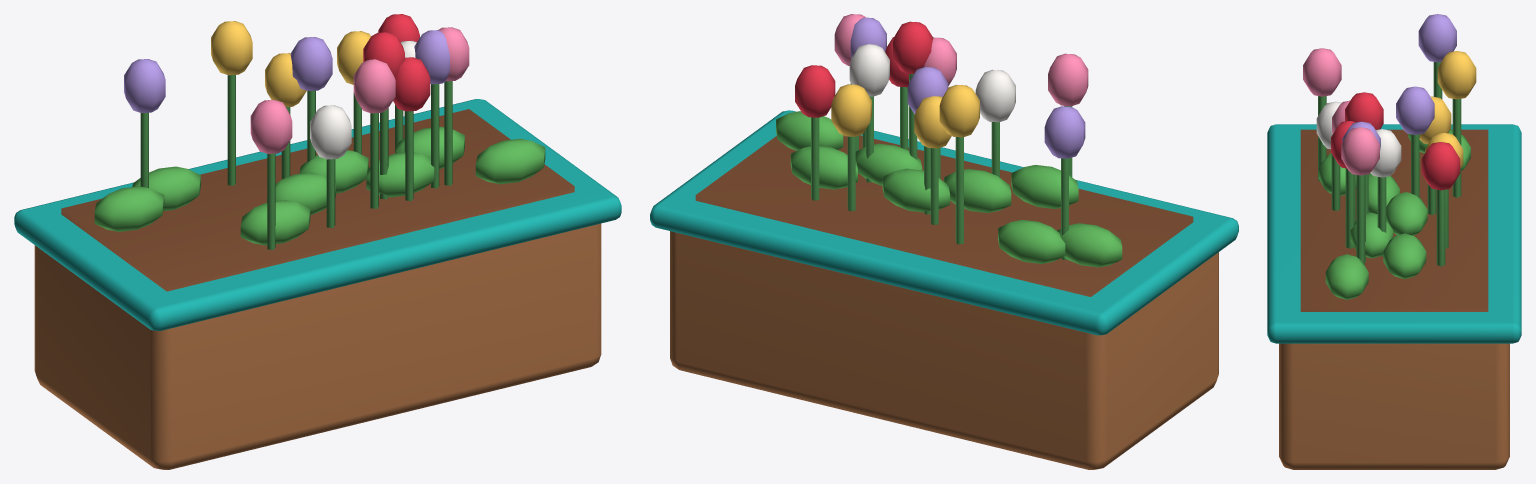
The model's file is sky_planter.glb.
3 views of the same model, side by side, from view 1: azimuth 30°, elevation 25°; view 2: azimuth 150°, elevation 25°; view 3: azimuth 270°, elevation 25° (orthographic). The views are drawn at different scales.
Parts seen in each view (by area): view 1: Planter; view 2: Planter; view 3: Planter.
Part boxes in pixels (x1,y1,x2,y2): Planter: (14,14,621,469); Planter: (650,14,1238,469); Planter: (1267,14,1521,469).
Size of the model in its own units: 1.68 by 1.17 by 0.88.
